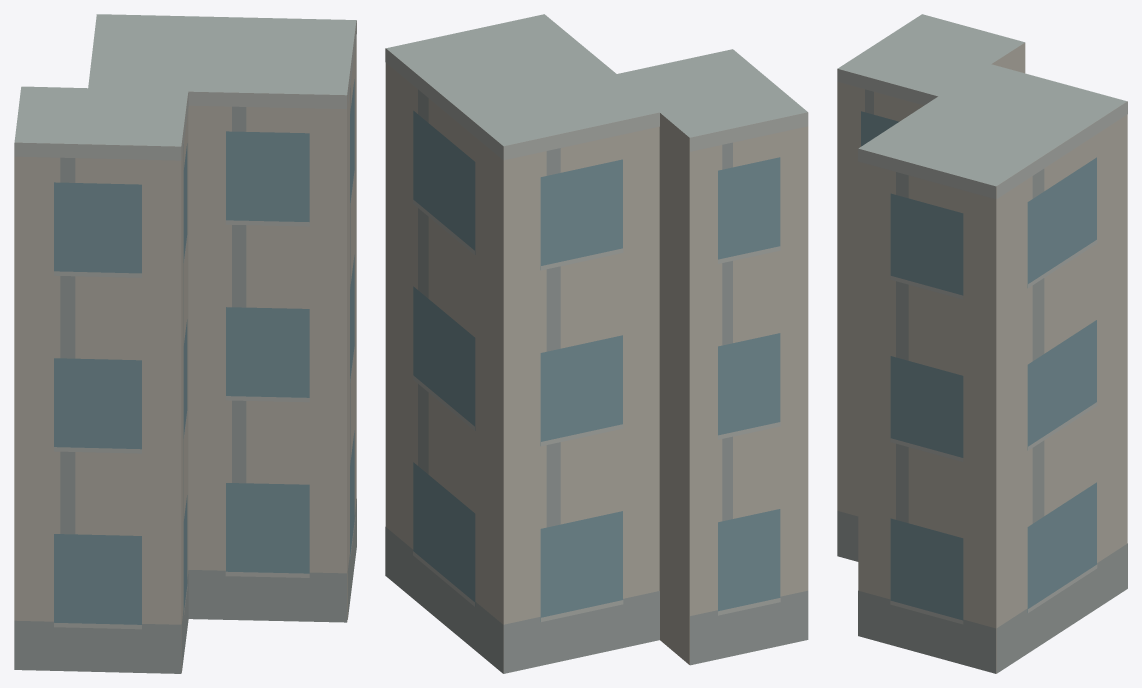
File: survey-upis-32820835.glb
3 views of the same model, side by side, from view 1: azimuth 30°, elevation 25°; view 2: azimuth 150°, elevation 25°; view 3: azimuth 270°, elevation 25° (orthographic). The views are drawn at different scales.
Parts seen in each view (by area): view 1: survey-upis-32820835.tmp; view 2: survey-upis-32820835.tmp; view 3: survey-upis-32820835.tmp.
Part boxes in pixels (<box>): survey-upis-32820835.tmp: <box>14,14,356,673</box>; survey-upis-32820835.tmp: <box>385,14,808,673</box>; survey-upis-32820835.tmp: <box>837,14,1127,673</box>.
Bounding box in the file's own units: 6.95 × 9.15 × 4.95.
